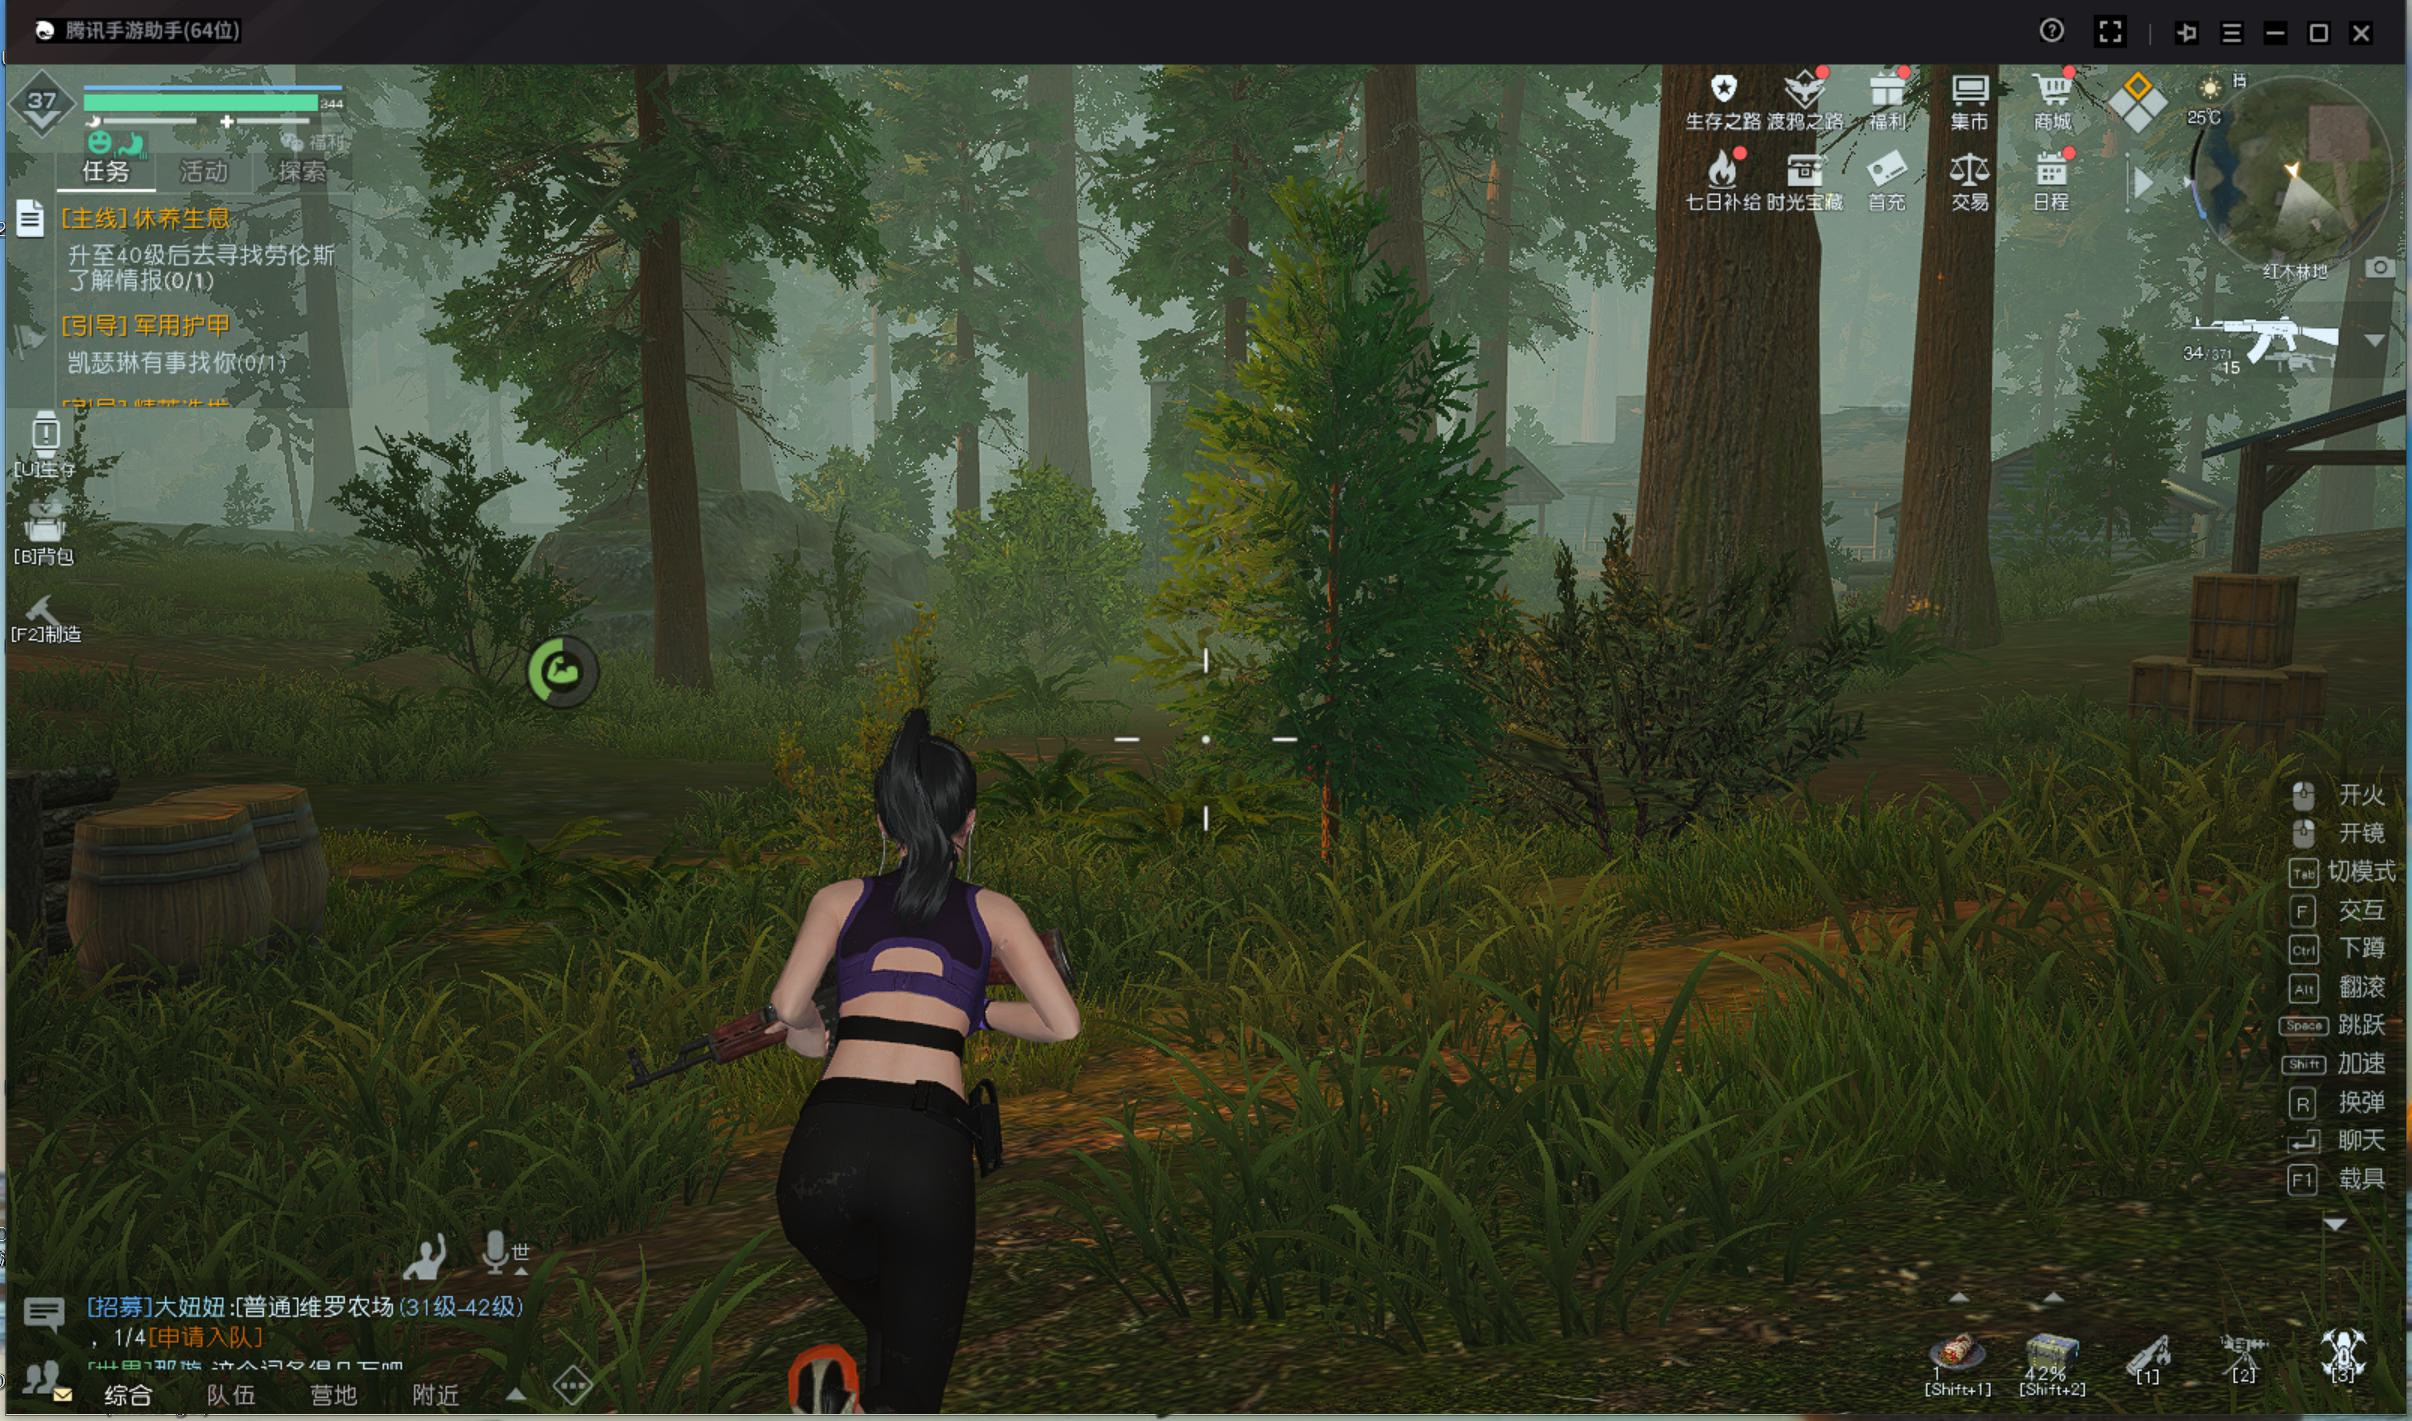tree: (1610, 184, 1835, 729), (1867, 215, 2008, 687), (622, 254, 719, 702), (1018, 291, 1110, 626), (947, 288, 998, 629)
